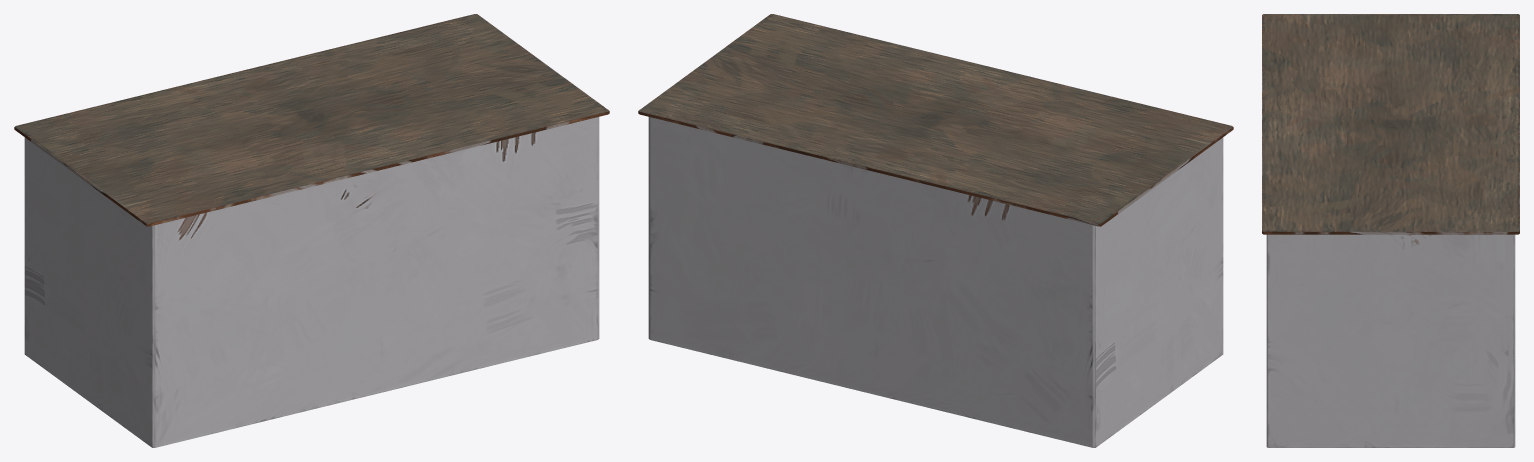
Rendered from lada.fbx.
3 views of the same model, side by side, from view 1: azimuth 30°, elevation 25°; view 2: azimuth 150°, elevation 25°; view 3: azimuth 270°, elevation 25° (orthographic). The views are drawn at different scales.
Visible parts, largest first — view 1: lada; view 2: lada; view 3: lada.
Part boxes in pixels (x1,y1,x2,y2): lada: (14, 14, 609, 447); lada: (638, 14, 1233, 447); lada: (1262, 14, 1519, 447).
Bounding box in the file's own units: 207 × 97.44 × 104.
